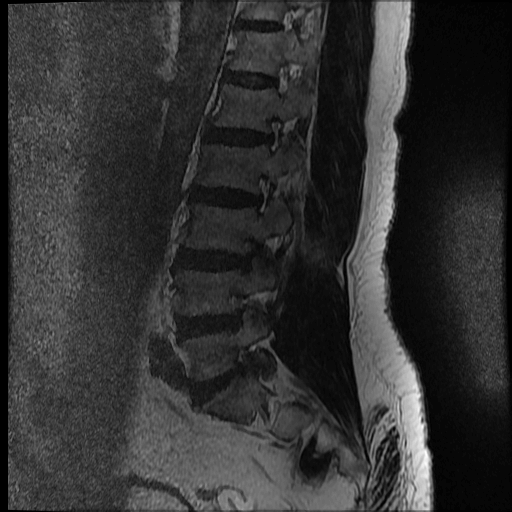LFS0: (245, 164, 282, 220)
LFS1: (254, 105, 289, 159)
